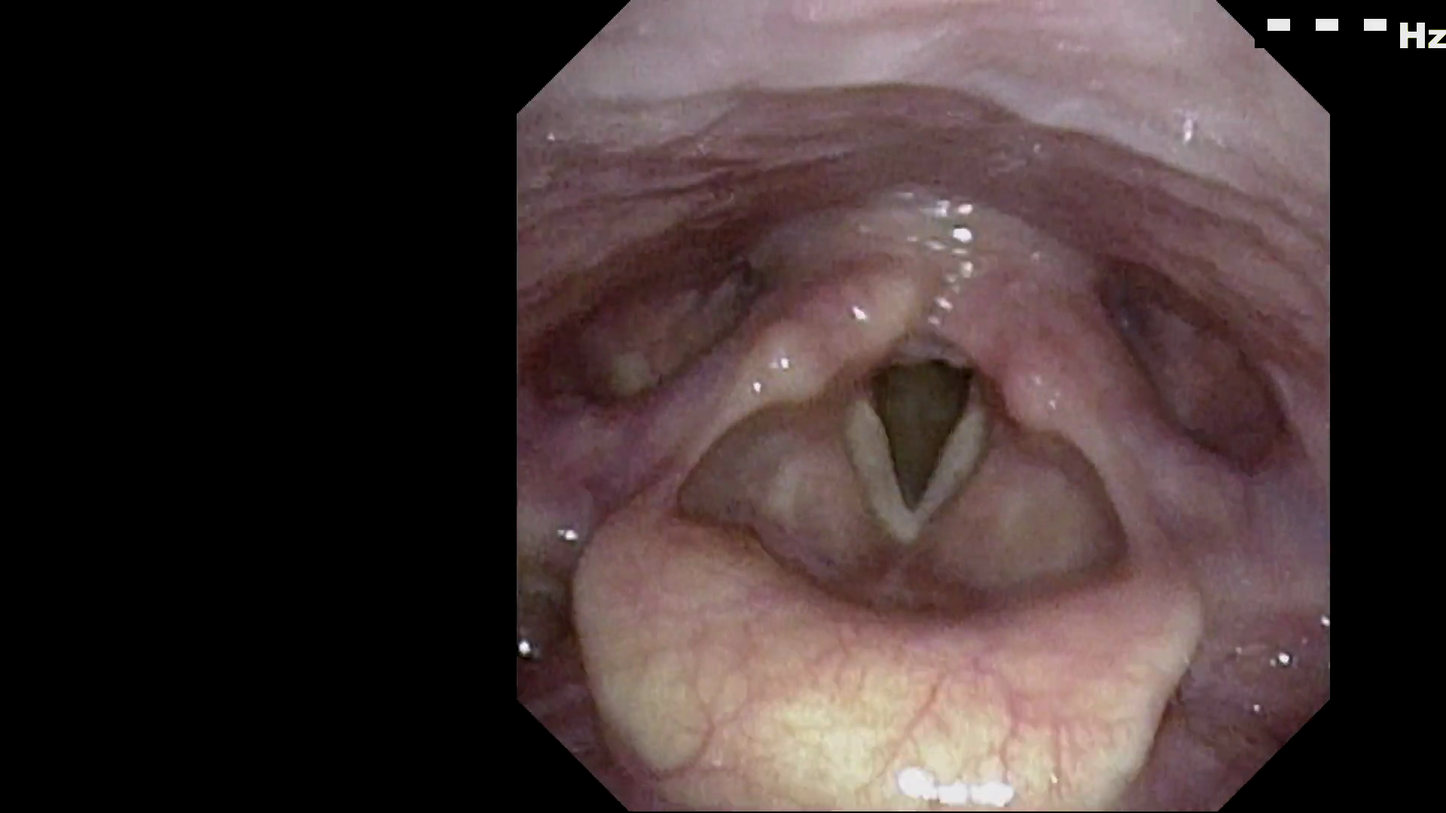epiglottis: (566, 503, 1209, 743)
trachea: (837, 330, 1016, 555)
